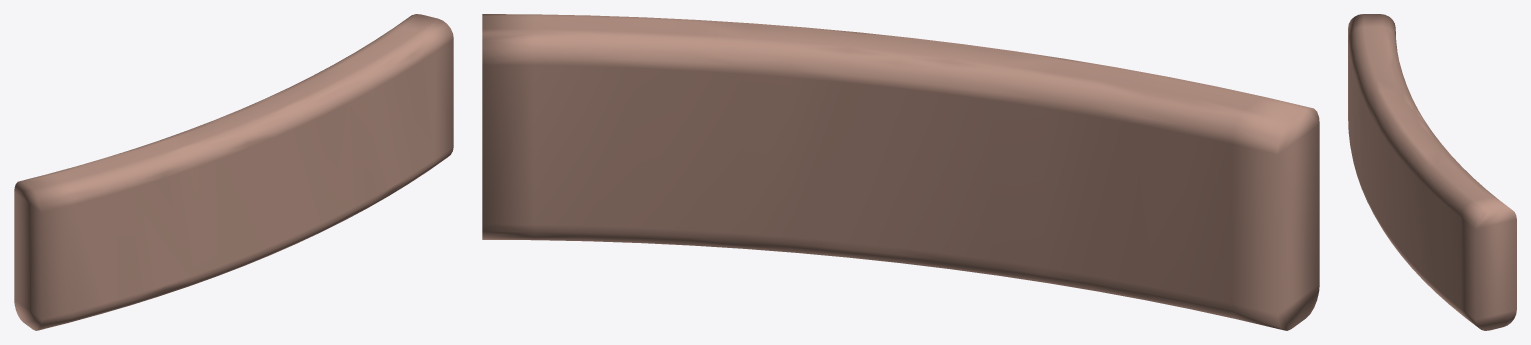
File: ArcParapet_R4_A30.glb
3 renders of one model, left to right at view 1: azimuth 30°, elevation 25°; view 2: azimuth 150°, elevation 25°; view 3: azimuth 270°, elevation 25°, orthographic. The views are drawn at different scales.
Visible parts, largest first — view 1: PBK_Parapet.014; view 2: PBK_Parapet.014; view 3: PBK_Parapet.014.
Boxes of the visible parts, box(x1,y1,x2,y2) form: PBK_Parapet.014: box(14, 14, 453, 330); PBK_Parapet.014: box(482, 14, 1319, 330); PBK_Parapet.014: box(1348, 14, 1516, 330).
Bounding box in the file's own units: 2 × 0.55 × 0.7091.
